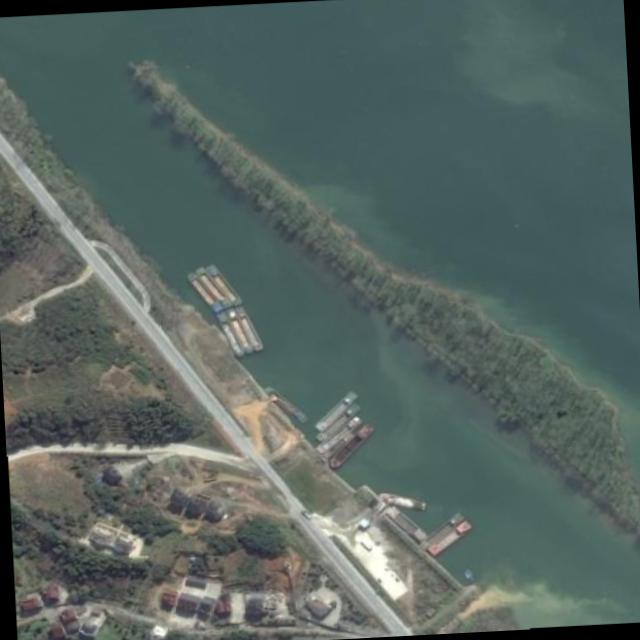ship: (329, 424, 374, 468), (421, 512, 468, 551), (266, 386, 309, 427), (315, 390, 358, 431), (318, 402, 361, 442), (317, 417, 363, 454), (385, 505, 427, 541), (196, 267, 232, 308), (430, 522, 472, 555), (187, 273, 222, 312), (207, 264, 240, 305), (217, 310, 244, 355), (227, 307, 253, 353), (237, 305, 264, 349), (381, 492, 427, 510)
